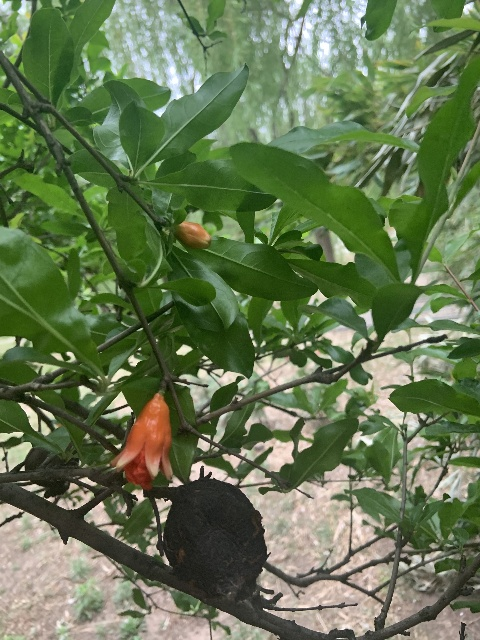bud: (175, 221, 211, 249)
flower: (110, 392, 173, 490)
